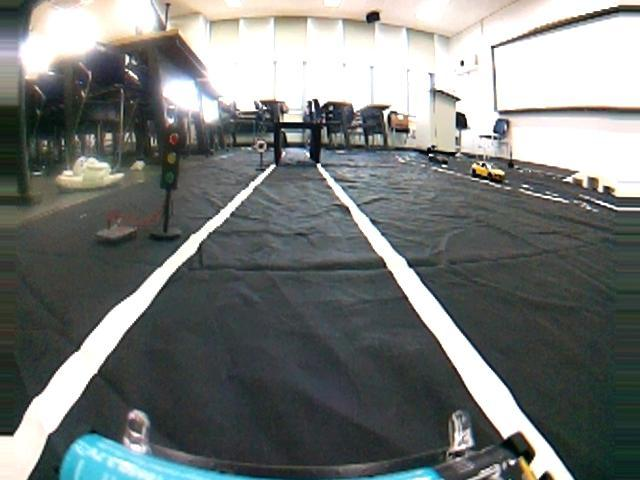green_light: (156, 124, 187, 195)
straight: (3, 242, 640, 479)
